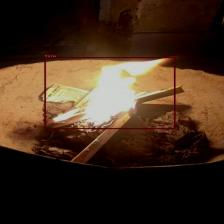fire: (44, 57, 175, 129)
